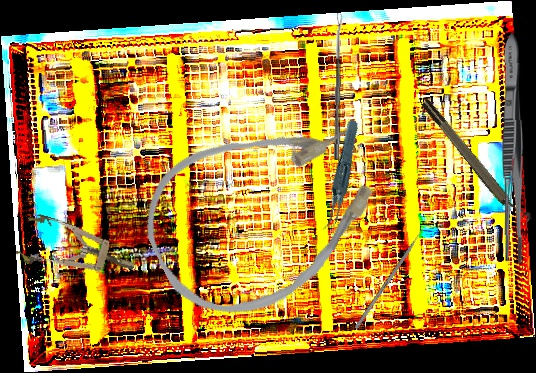Cannula: (123, 84, 409, 342)
Dressing Forceps: (499, 31, 527, 267)
Fixation Ring: (418, 92, 534, 232)
Pusher: (354, 218, 431, 330)
Speculum: (14, 210, 141, 292)
Surgical Spoon: (334, 13, 343, 161)
Tissue Forceps: (300, 118, 380, 234)
